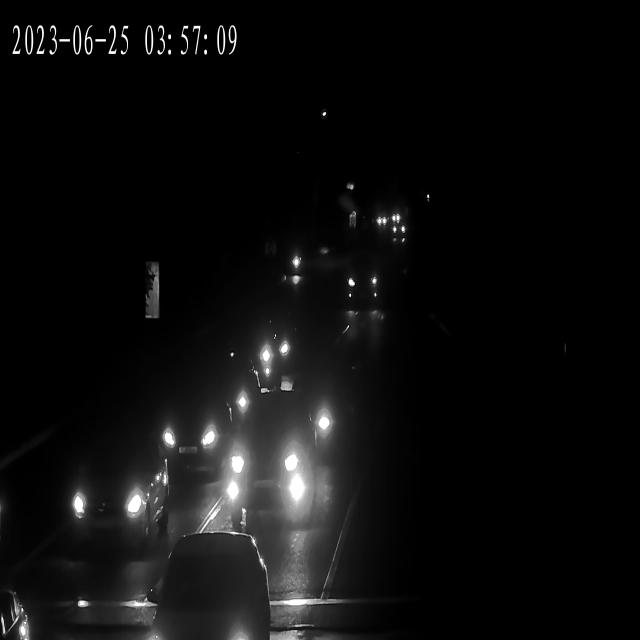Car: (57, 439, 174, 554), (142, 534, 270, 638), (219, 419, 319, 519), (152, 391, 229, 462), (176, 364, 258, 427), (238, 322, 300, 378), (247, 321, 299, 368), (344, 261, 382, 303), (284, 254, 304, 280), (388, 220, 407, 236), (388, 224, 407, 240), (384, 209, 402, 224), (371, 213, 388, 228), (368, 213, 385, 228), (386, 212, 404, 226)
